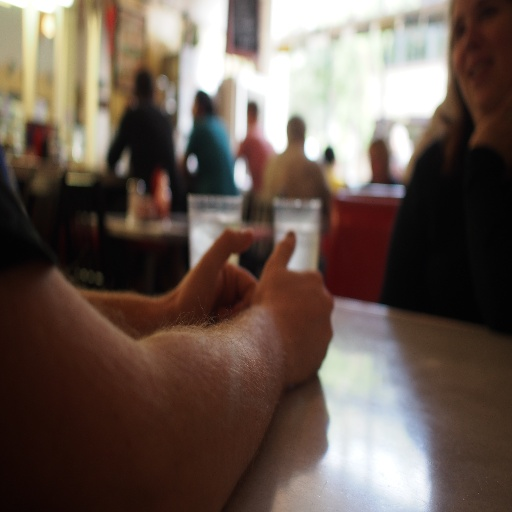hand: (253, 229, 334, 386), (171, 226, 258, 327)
